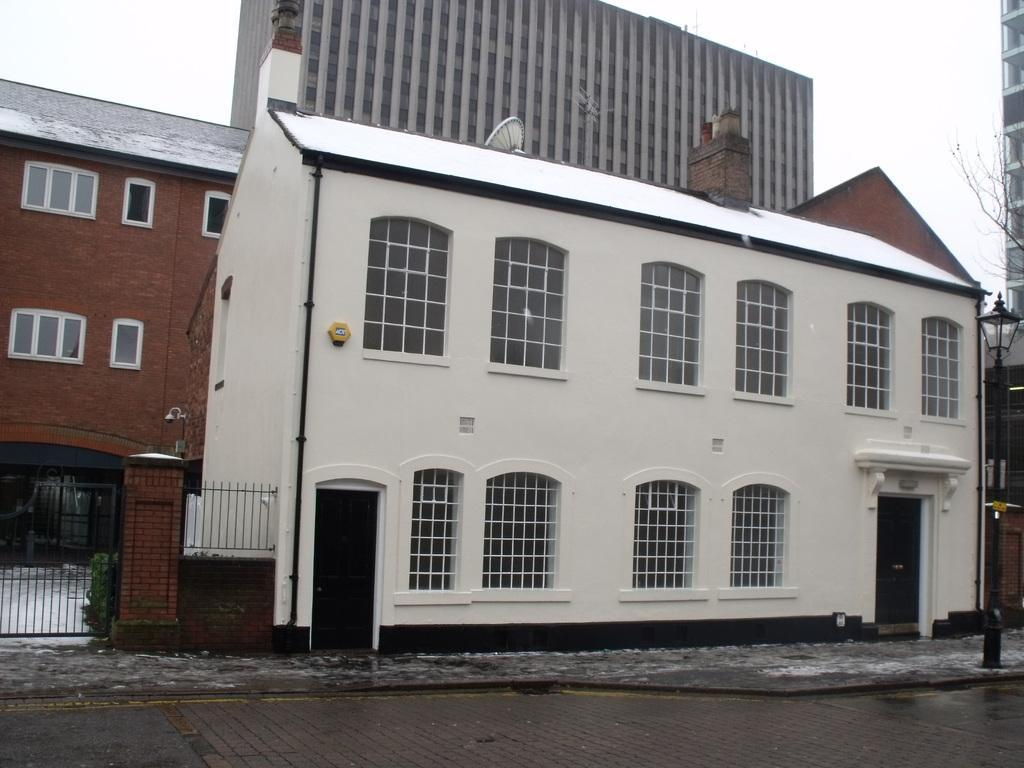door: (317, 489, 375, 656), (878, 496, 920, 639)
